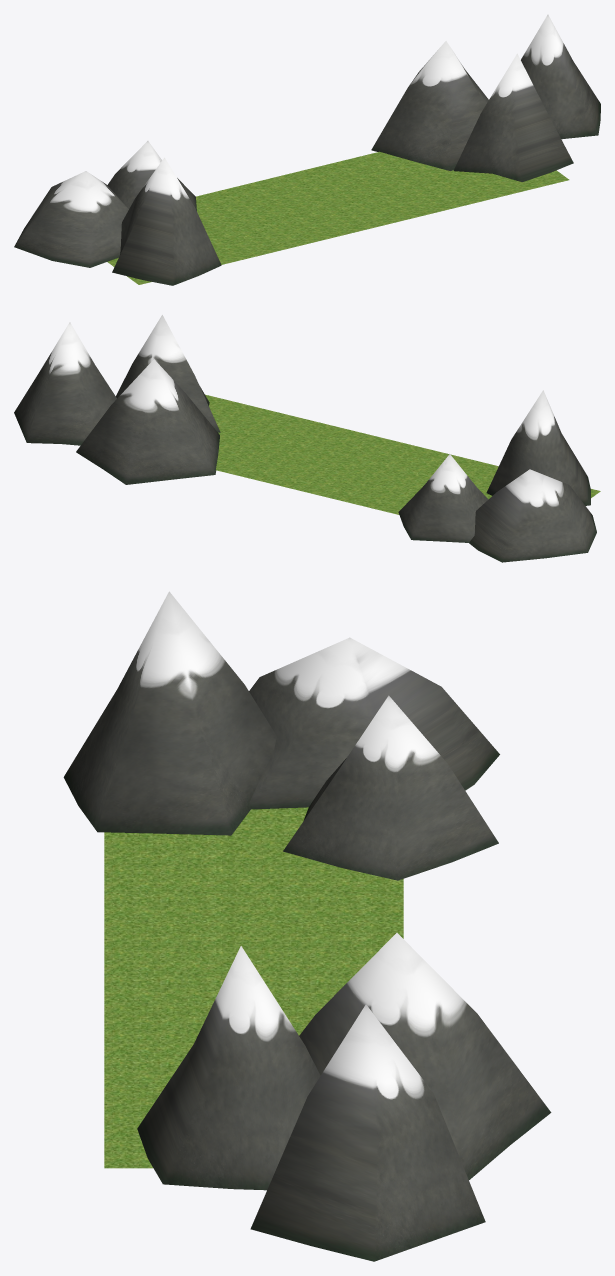
File: terrain_8.glb
The picture shows the model from 3 angles, top to bottom: view 1: azimuth 30°, elevation 25°; view 2: azimuth 150°, elevation 25°; view 3: azimuth 270°, elevation 25°; orthographic projection. The views are drawn at different scales.
Parts seen in each view (by area): view 1: Circle.045; view 2: Circle.045; view 3: Circle.045.
Boxes of the visible parts, x1,y1,x2,y2 form: Circle.045: (14,14,600,285); Circle.045: (14,315,600,562); Circle.045: (63,591,551,1261).
Bounding box in the file's own units: 177 × 30.73 × 65.13.
Materials: 6 (6 with a texture image).
